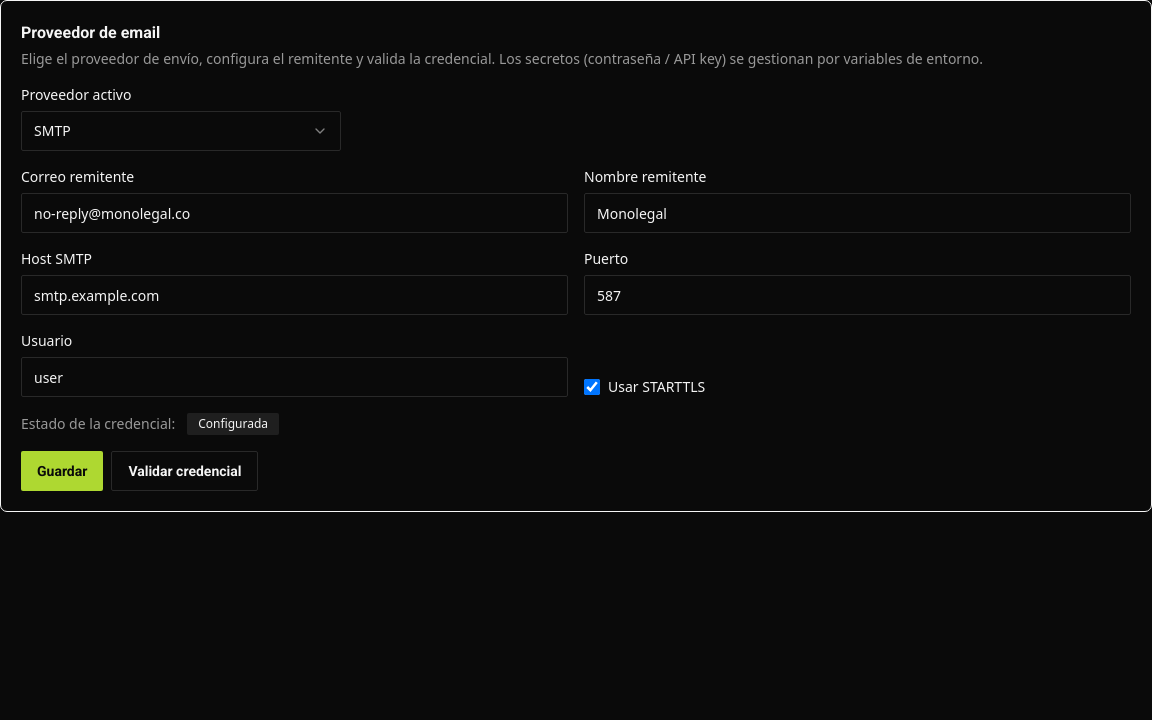
EmailProviderSection › rechaza guardar con un correo remitente inválido (validación cliente)
Replace the text in the field labelled "Correo remitente" with "no-es-correo" at x=294, y=213, box left=21, top=193, right=568, bottom=233
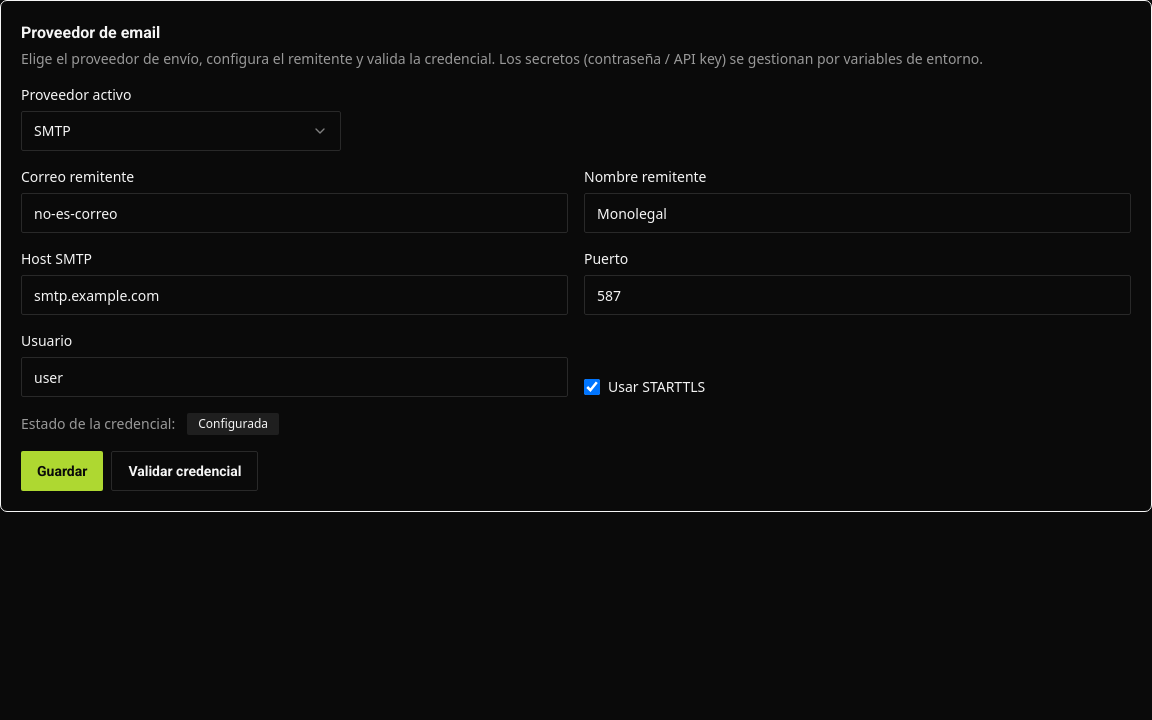
Click the button "Guardar".
click(62, 471)  # box left=21, top=451, right=103, bottom=491
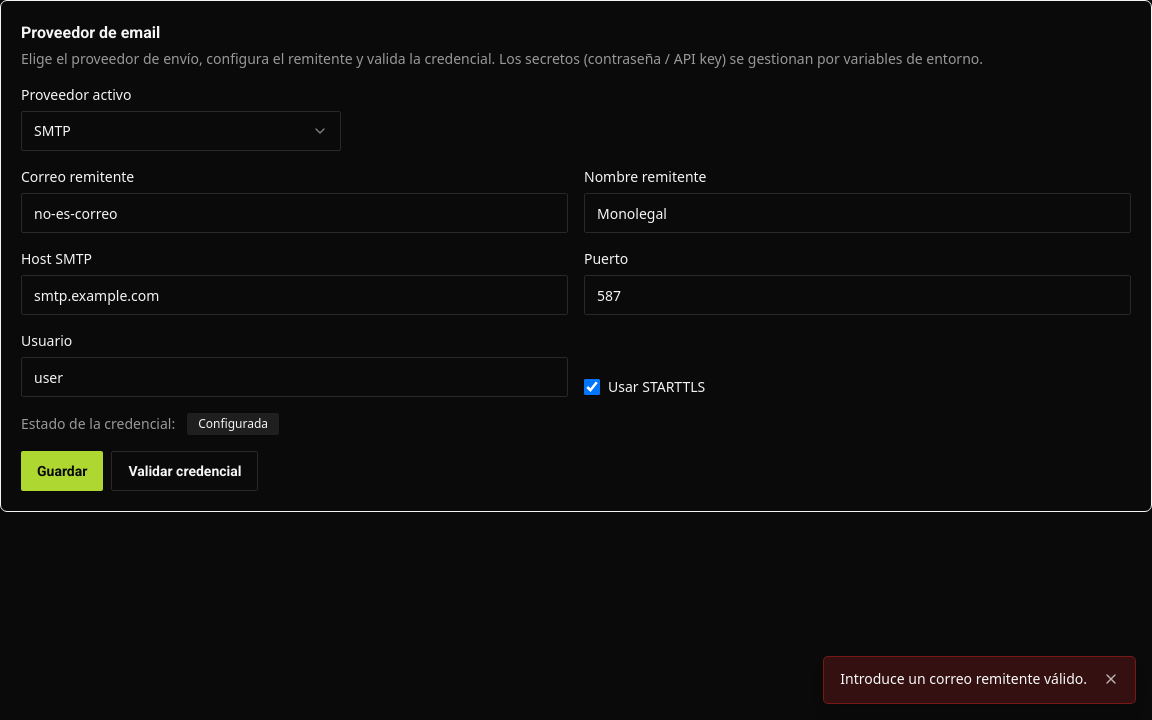
Now the text "Introduce un correo remitente válido." is shown, box left=840, top=669, right=1087, bottom=688
